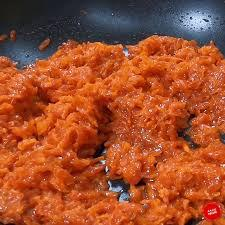Gajar ka halwa: (1, 28, 225, 225)
